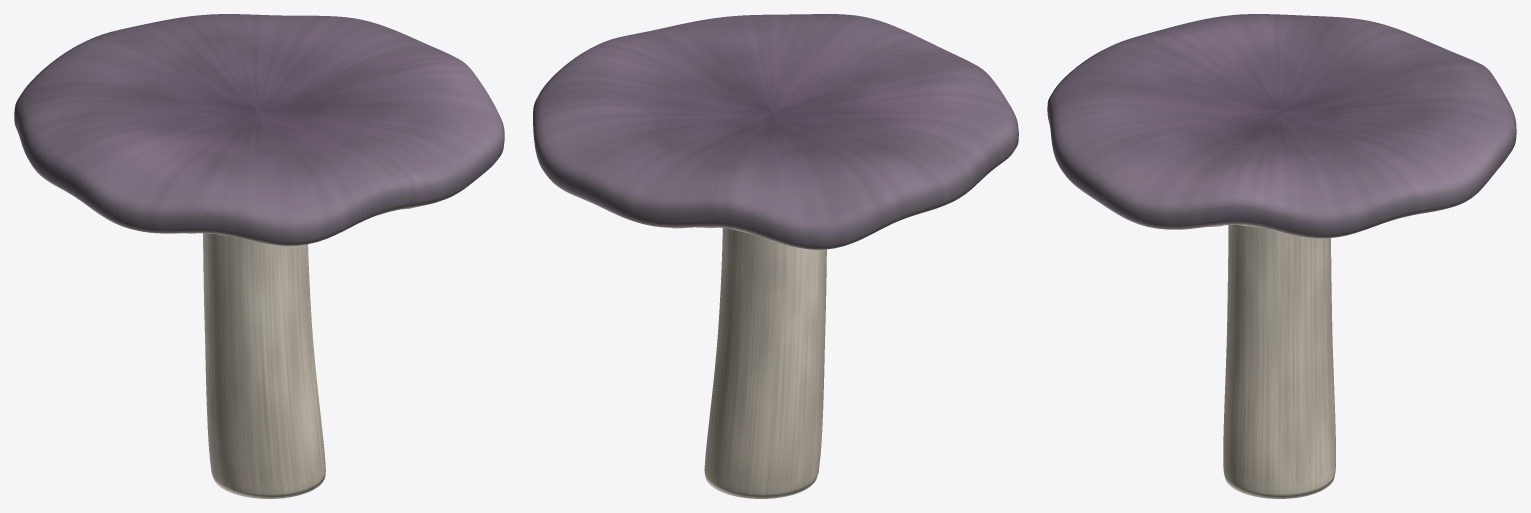
File: lactarius-trivialis-agg-drawn.glb
3 views of the same model, side by side, from view 1: azimuth 30°, elevation 25°; view 2: azimuth 150°, elevation 25°; view 3: azimuth 270°, elevation 25° (orthographic). The views are drawn at different scales.
Bounding box in the file's own units: 0.8733 × 0.7727 × 0.8748.
Materials: 1 (1 with a texture image).
